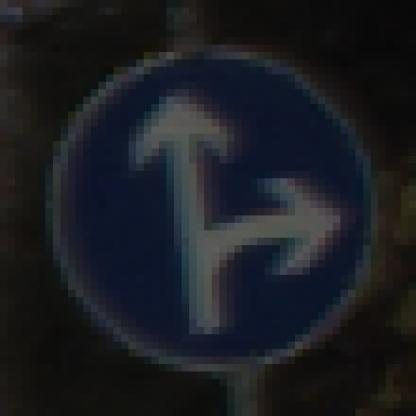Straight or Right: (39, 38, 379, 380)
